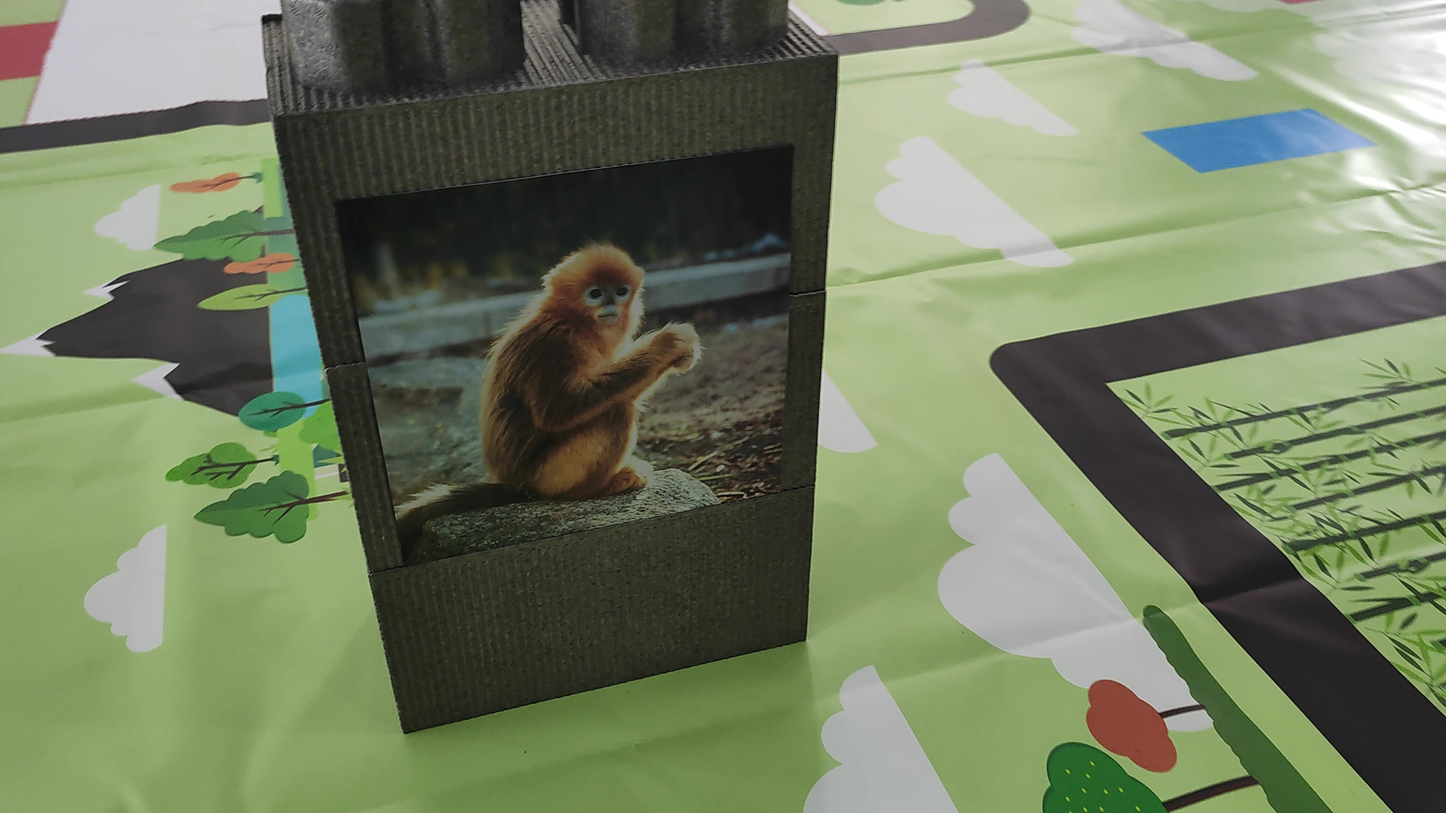monkey: (392, 198, 725, 559)
